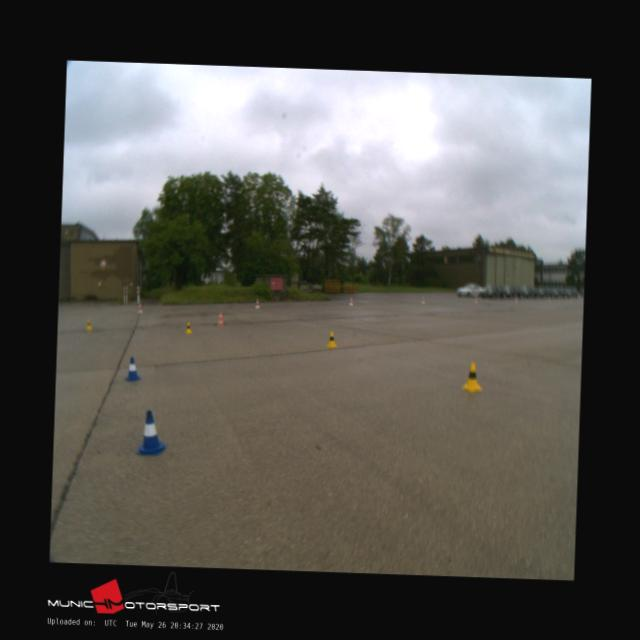blue_cone: (137, 409, 167, 454), (124, 356, 140, 381)
large_orange_cone: (217, 311, 224, 325)
yellow_cone: (462, 362, 482, 392), (326, 332, 336, 346), (184, 322, 192, 333), (85, 320, 92, 330)
